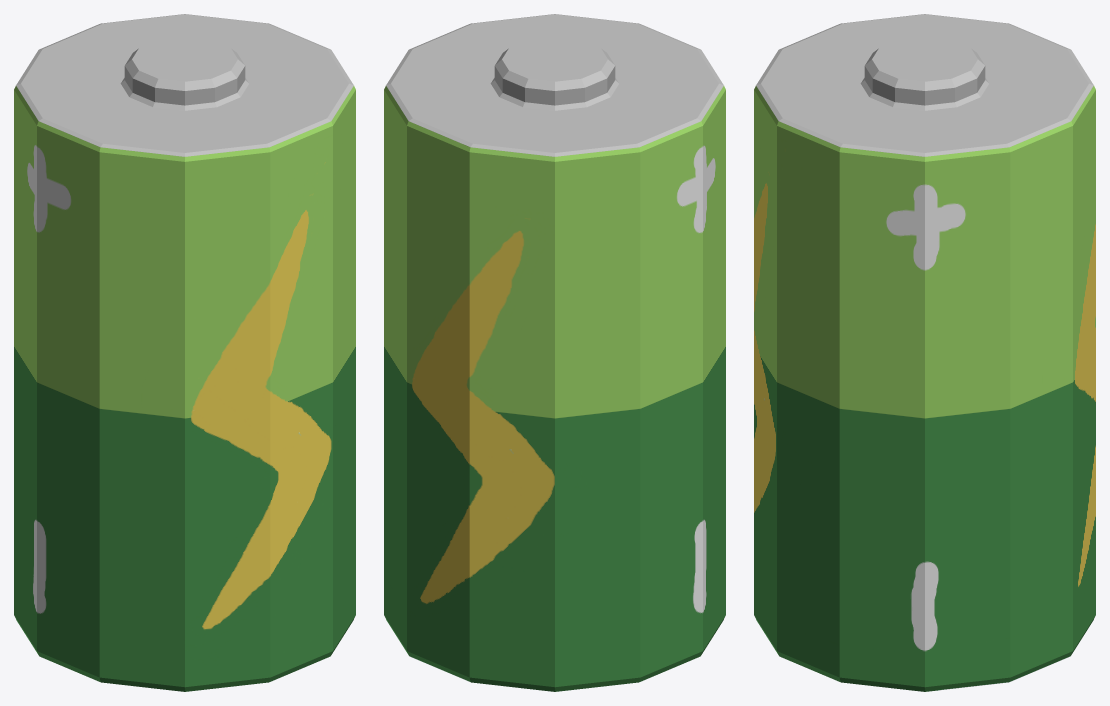
The model's file is Batteri-2.fbx.
3 views of the same model, side by side, from view 1: azimuth 30°, elevation 25°; view 2: azimuth 150°, elevation 25°; view 3: azimuth 270°, elevation 25° (orthographic).
Visible parts, largest first — view 1: Cylinder; view 2: Cylinder; view 3: Cylinder.
Boxes of the visible parts, left/top/right/bottom form: Cylinder: left=14, top=14, right=355, bottom=691; Cylinder: left=384, top=14, right=725, bottom=691; Cylinder: left=754, top=14, right=1095, bottom=691.
Size of the model in its own units: 2.9 by 5.28 by 2.9.
Materials: 1 (1 with a texture image).
